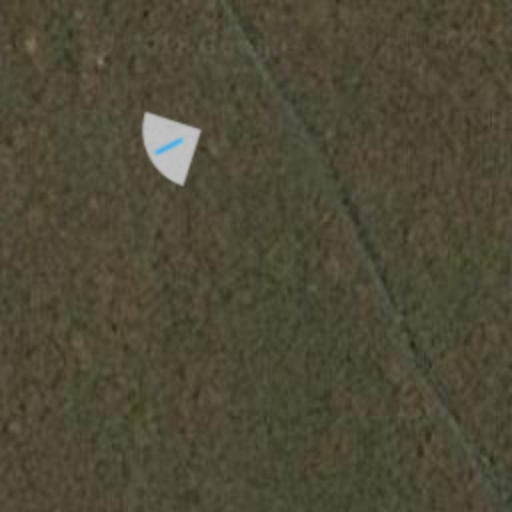quarter_circle: (116, 92, 224, 200)
